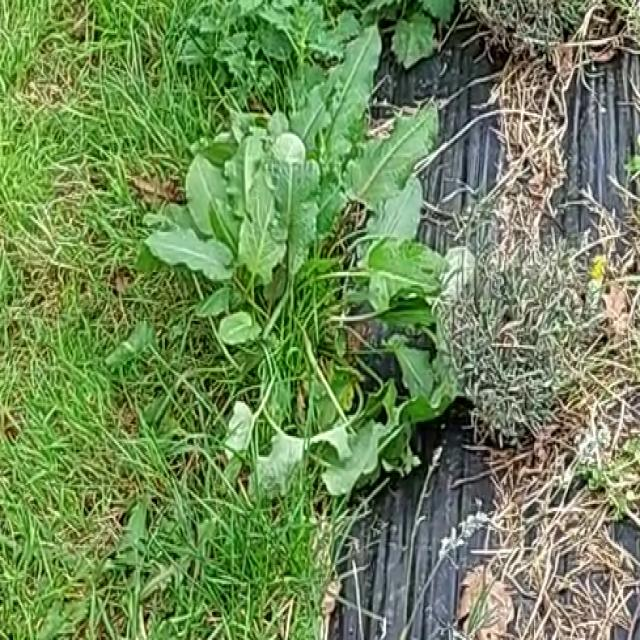organic waste: (147, 14, 483, 462)
